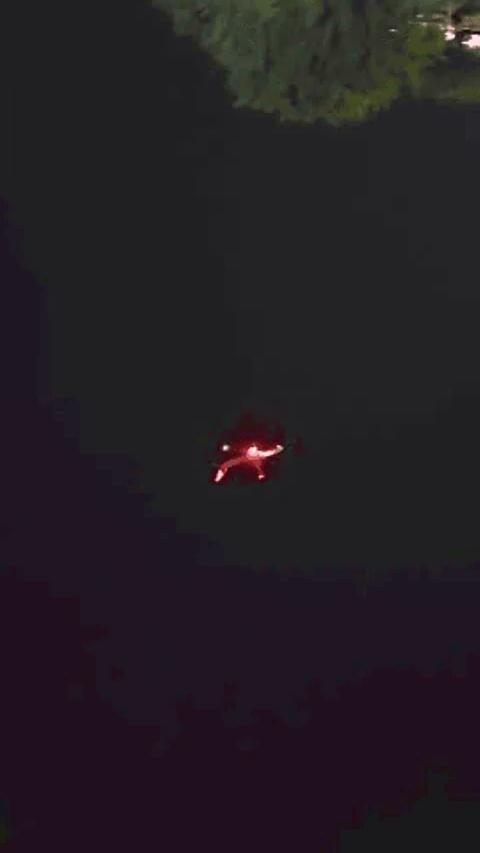Plane: (187, 385, 310, 522)
